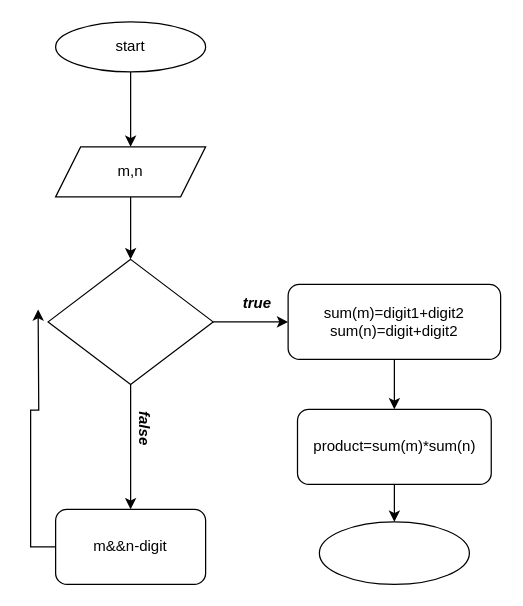
Image size: 523x606. Some labels were removed from this diagram. Here are the shapes that lost their labels. From the top down, the centre of each, then its label:
At point (130, 321): "digit =m&&n%10==0".
At point (393, 552): "end".
